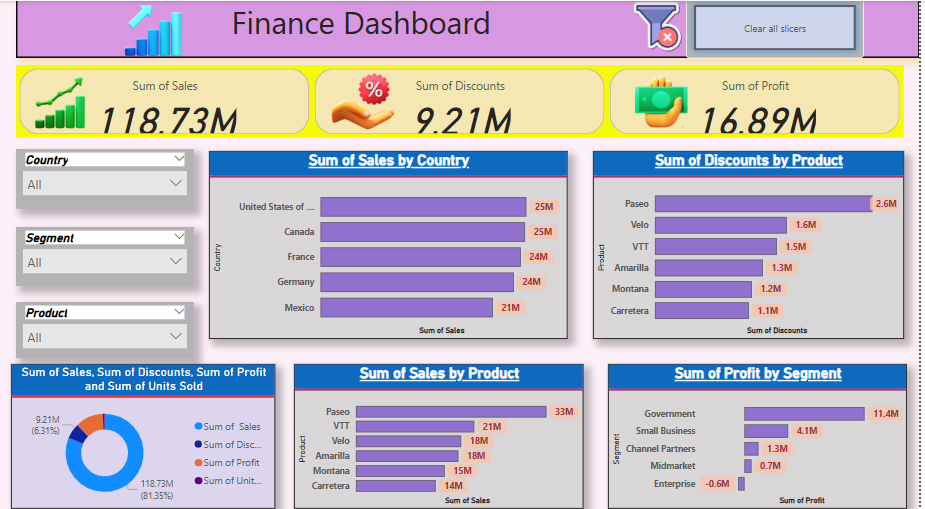

What the dashboard file says about the page in this screenshot:
{"tool":"powerbi","page":{"name":"9.dashboard","canvas":[1280,720],"ordinal":0},"visuals":[{"type":"clusteredBarChart","fields":{"Category":["financials.Segment"],"Y":["Sum(financials.Profit)"]},"box":[847.8,518.5,415.2,201.1],"z":0},{"type":"clusteredBarChart","fields":{"Category":["financials.Product"],"Y":["Sum(financials.Discounts)"]},"box":[826.1,221.7,431.5,260.9],"z":1000},{"type":"clusteredBarChart","fields":{"Category":["financials.Country"],"Y":["Sum(financials. Sales)"]},"box":[293.5,221.7,497.8,260.9],"z":2000},{"type":"clusteredBarChart","fields":{"Category":["financials.Product"],"Y":["Sum(financials. Sales)"]},"box":[410.9,518.5,402.2,201.1],"z":3000},{"type":"textbox","box":[25,7.6,1255.4,85.9],"z":4000},{"type":"cardVisual","fields":{"Data":["Sum(financials. Sales)","Sum(financials.Discounts)","Sum(financials.Profit)"]},"box":[25,103.3,1232.6,101.1],"z":5000},{"type":"slicer","fields":{"Values":["financials.Country"]},"box":[25,219.6,246.7,82.6],"z":6000},{"type":"slicer","fields":{"Values":["financials.Segment"]},"box":[25,327.2,246.7,81.5],"z":7000},{"type":"slicer","fields":{"Values":["financials.Product"]},"box":[25,431.5,246.7,78.3],"z":8000},{"type":"donutChart","fields":{"Y":["Sum(financials. Sales)","Sum(financials.Discounts)","Sum(financials.Profit)","Sum(financials.Units Sold)"]},"box":[17.4,518.5,367.4,201.1],"z":9000},{"type":"image","box":[40.2,106.5,92.4,97.8],"z":10000},{"type":"image","box":[455.4,98.9,102.2,109.8],"z":11000},{"type":"image","box":[871.7,103.3,96.7,100],"z":12000},{"type":"image","box":[871.7,0,83.7,93.5],"z":13000},{"type":"image","box":[0,0,431.5,106.5],"z":14000},{"type":"actionButton","box":[955.4,7.6,247.8,85.9],"z":15000}]}

Visuals, with their boxes in screenshot pixels (x1, y1, x2, y2), scaled from the page's 1280x720 canvas onto the 925x509 screenshot:
clusteredBarChart - financials.Segment x Sum(financials.Profit): bbox(613, 367, 913, 508)
clusteredBarChart - financials.Product x Sum(financials.Discounts): bbox(597, 157, 909, 341)
clusteredBarChart - financials.Country x Sum(financials. Sales): bbox(212, 157, 572, 341)
clusteredBarChart - financials.Product x Sum(financials. Sales): bbox(297, 367, 588, 508)
textbox: bbox(18, 5, 924, 66)
cardVisual - Sum(financials. Sales) x Sum(financials.Discounts): bbox(18, 73, 909, 144)
slicer - financials.Country: bbox(18, 155, 196, 214)
slicer - financials.Segment: bbox(18, 231, 196, 289)
slicer - financials.Product: bbox(18, 305, 196, 360)
donutChart - Sum(financials. Sales) x Sum(financials.Discounts): bbox(13, 367, 278, 508)
image: bbox(29, 75, 96, 144)
image: bbox(329, 70, 403, 148)
image: bbox(630, 73, 700, 144)
image: bbox(630, 0, 690, 66)
image: bbox(0, 0, 312, 75)
actionButton: bbox(690, 5, 870, 66)
